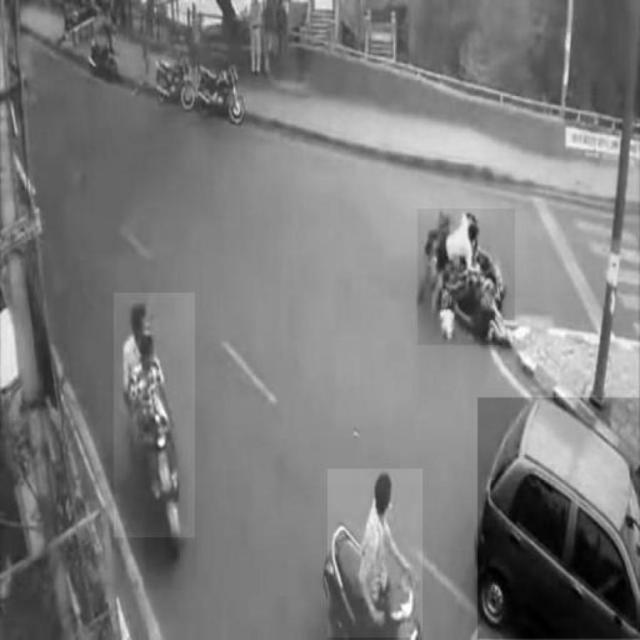accident: (418, 209, 516, 345)
vehicle: (478, 398, 640, 639), (114, 293, 195, 537), (327, 469, 423, 637), (197, 63, 247, 125), (156, 56, 198, 110)
